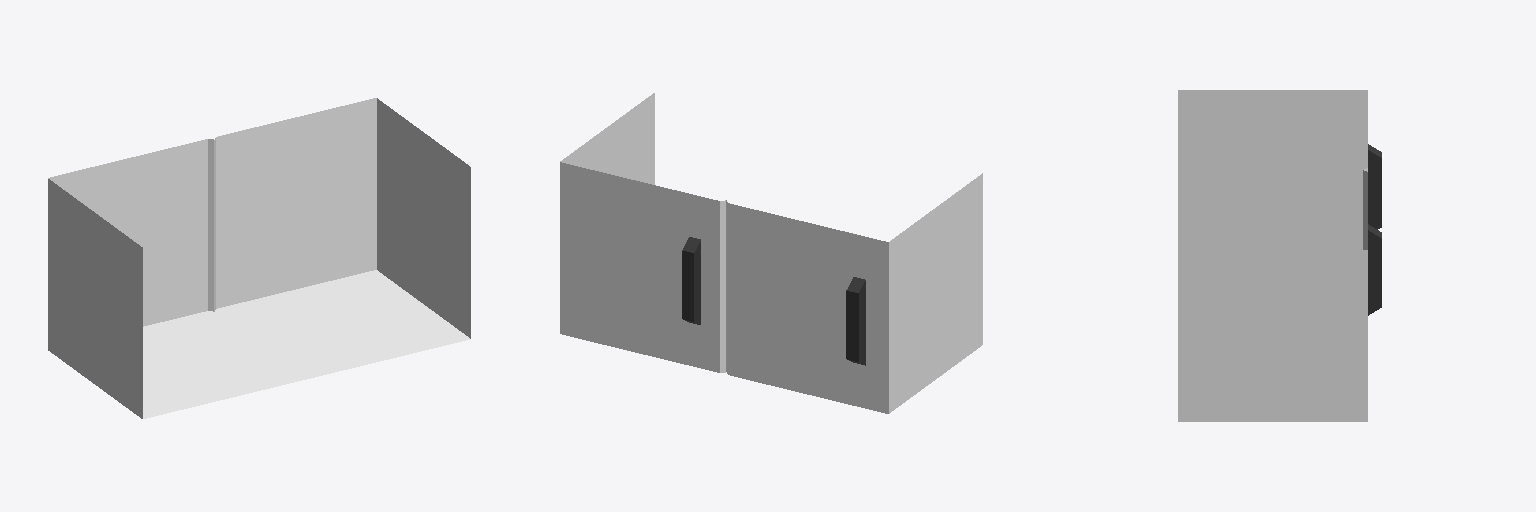
The model's file is prop_cupboard_01.obj.
3 views of the same model, side by side, from view 1: azimuth 30°, elevation 25°; view 2: azimuth 150°, elevation 25°; view 3: azimuth 270°, elevation 25° (orthographic).
Parts seen in each view (by area): view 1: Cube; view 2: Cube; view 3: Cube.
Boxes of the visible parts, box(x1,y1,x2,y2) form: Cube: box(48, 98, 470, 418); Cube: box(560, 93, 982, 413); Cube: box(1178, 90, 1381, 421).
Size of the model in its own units: 4 by 2 by 2.15.